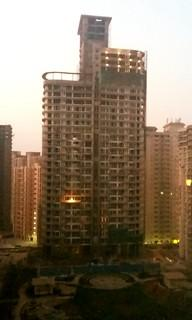building: (38, 9, 150, 264)
